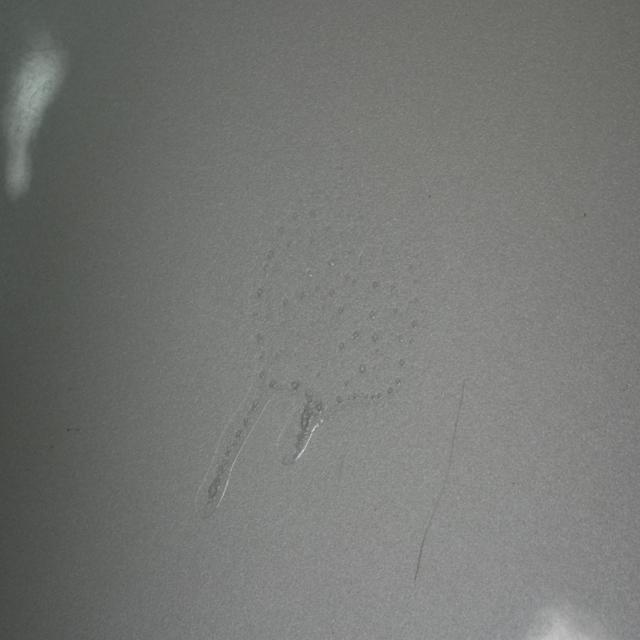dirt: (580, 207, 589, 222), (427, 189, 435, 202)
runs: (198, 168, 437, 518)
scratch: (410, 377, 469, 585)
